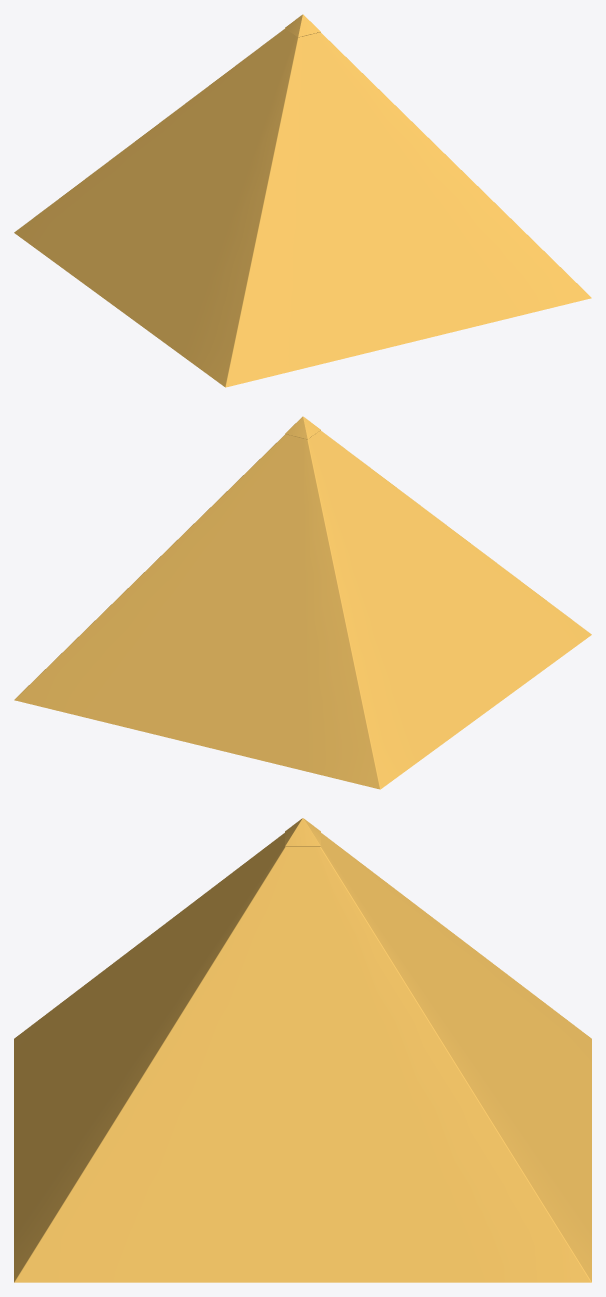
The model's file is pyramids.glb.
The picture shows the model from 3 angles, top to bottom: view 1: azimuth 30°, elevation 25°; view 2: azimuth 150°, elevation 25°; view 3: azimuth 270°, elevation 25°; orthographic projection. The views are drawn at different scales.
Visible parts, largest first — view 1: Box001; view 2: Box001; view 3: Box001.
Part boxes in pixels (x1,y1,x2,y2): Box001: [14, 14, 591, 387]; Box001: [14, 416, 591, 789]; Box001: [14, 818, 591, 1282].
Size of the model in its own units: 56.26 by 36.75 by 56.26.
